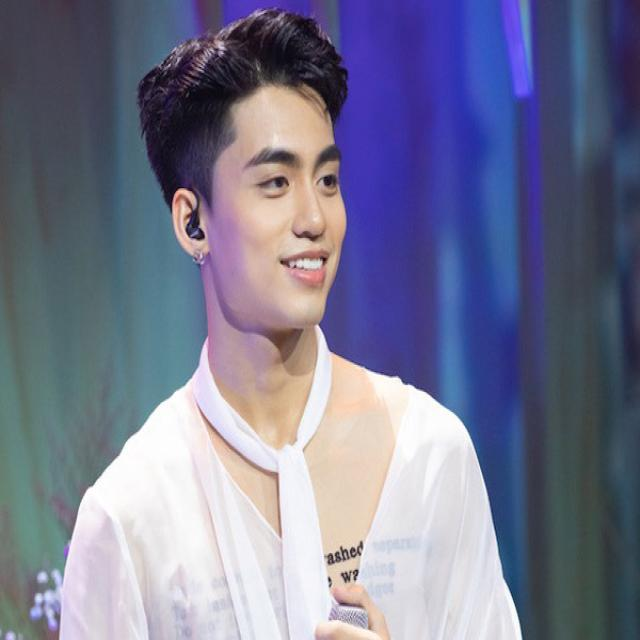Nonhelmet: (132, 4, 358, 338)
